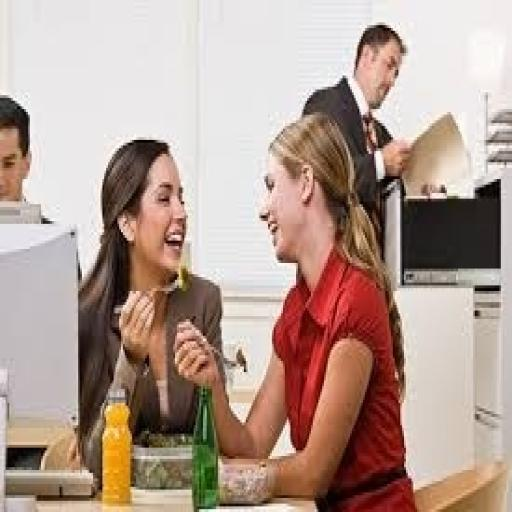eating: (171, 109, 419, 509)
